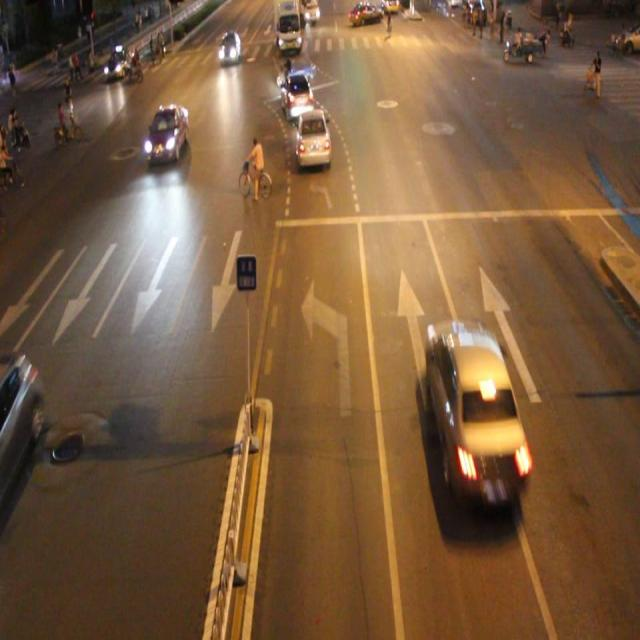car: (426, 320, 530, 507), (144, 102, 189, 162), (295, 104, 334, 164), (280, 67, 316, 119)
